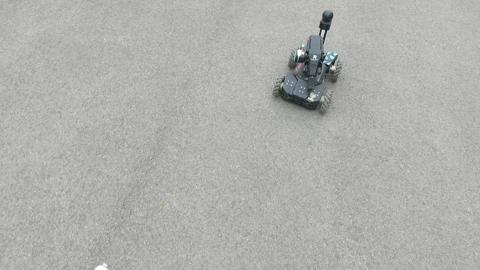chariot: (271, 9, 342, 114)
